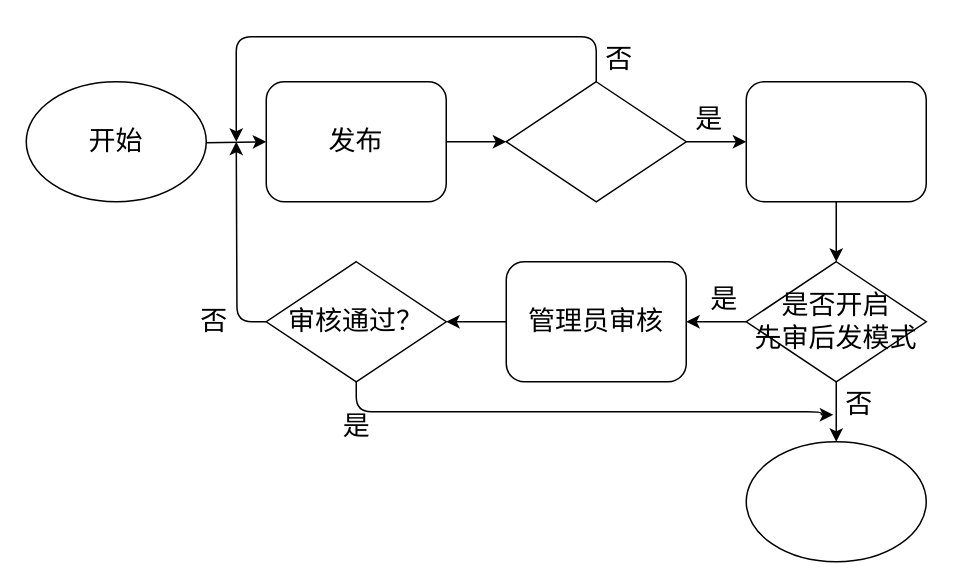
This 953x588 diagram has some shape labels left out. The centre of each missing label's shape, as x and y in pixels:
"信息是否完善" goes at point (595, 141).
"写入数据库" goes at point (835, 141).
"发布完成" goes at point (835, 501).
